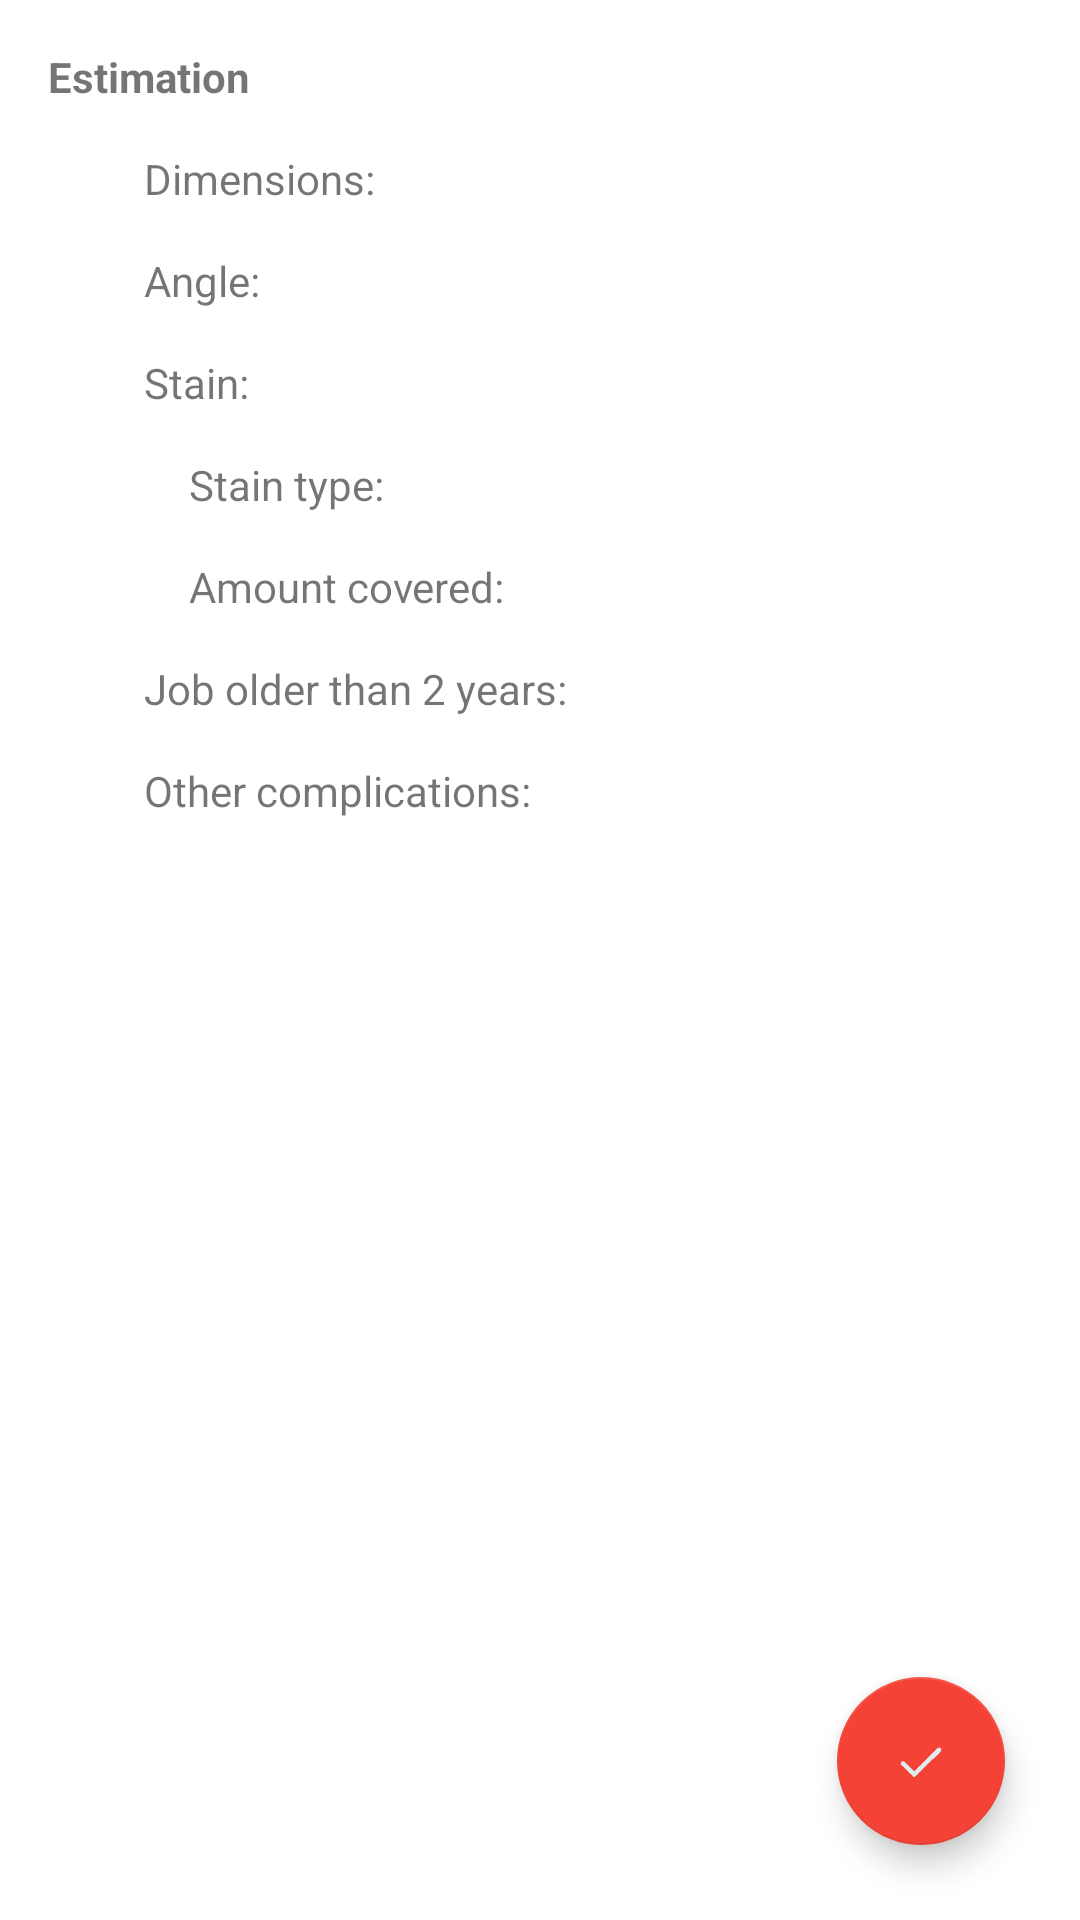

Icons on this 1080*1920 Android screen, each with its box as (x1, y1, x2, y2):
check mark: (837, 1677, 1005, 1845)
